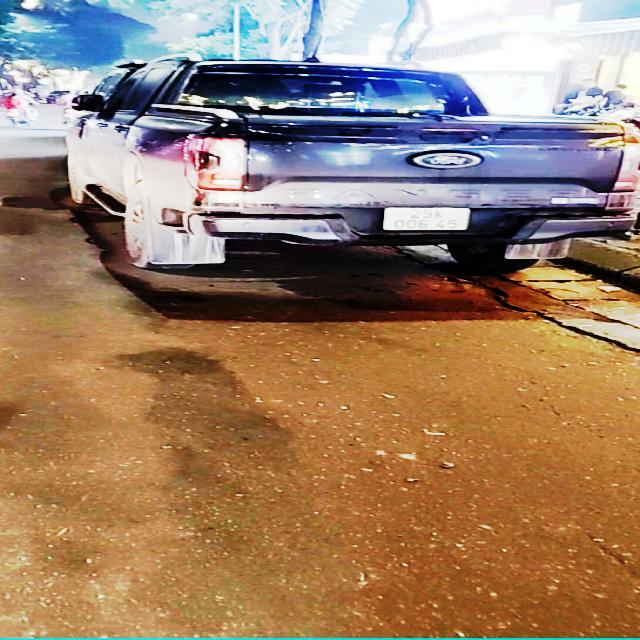license_plate: (379, 206, 474, 233)
